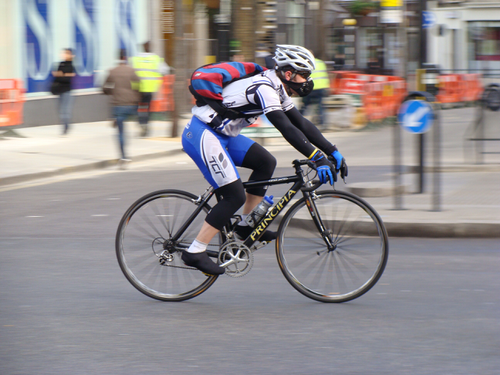bikerider: (102, 35, 399, 310)
